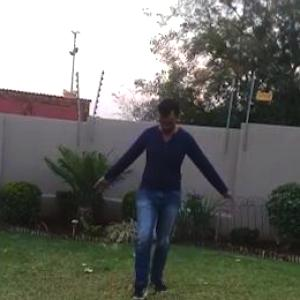land: (93, 92, 239, 299)
